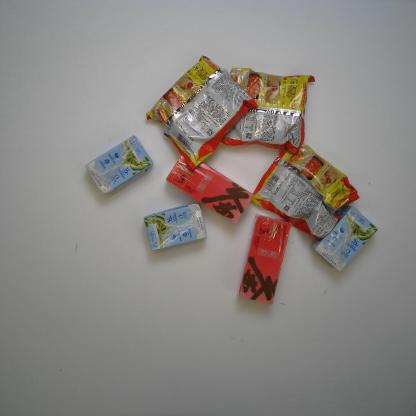Instant Drink: (163, 152, 253, 225), (234, 213, 294, 309)
Instant Noodles: (144, 51, 262, 176), (250, 136, 365, 242), (212, 64, 319, 159)
Milk: (308, 202, 379, 275), (81, 135, 154, 201), (143, 202, 208, 253)
